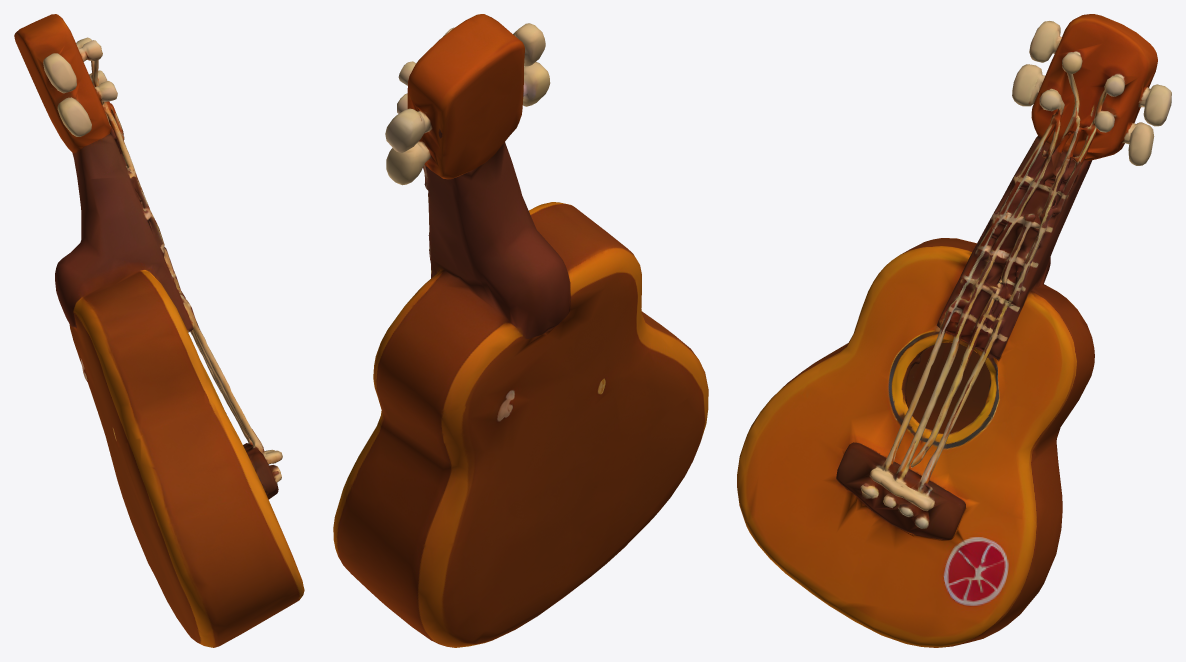
File: guitar.glb
3 views of the same model, side by side, from view 1: azimuth 30°, elevation 25°; view 2: azimuth 150°, elevation 25°; view 3: azimuth 270°, elevation 25° (orthographic). The views are drawn at different scales.
Visible parts, largest first — view 1: tripo_node_c8e4d443-cb3c-42cd-8459-b1c9f597d9e9; view 2: tripo_node_c8e4d443-cb3c-42cd-8459-b1c9f597d9e9; view 3: tripo_node_c8e4d443-cb3c-42cd-8459-b1c9f597d9e9.
Part boxes in pixels (left/top/right/bottom): tripo_node_c8e4d443-cb3c-42cd-8459-b1c9f597d9e9: left=14, top=14, right=304, bottom=647; tripo_node_c8e4d443-cb3c-42cd-8459-b1c9f597d9e9: left=333, top=14, right=708, bottom=647; tripo_node_c8e4d443-cb3c-42cd-8459-b1c9f597d9e9: left=737, top=14, right=1171, bottom=647.
Bounding box in the file's own units: 0.3694 × 0.9986 × 0.6673.
1 material, 1 textured.
